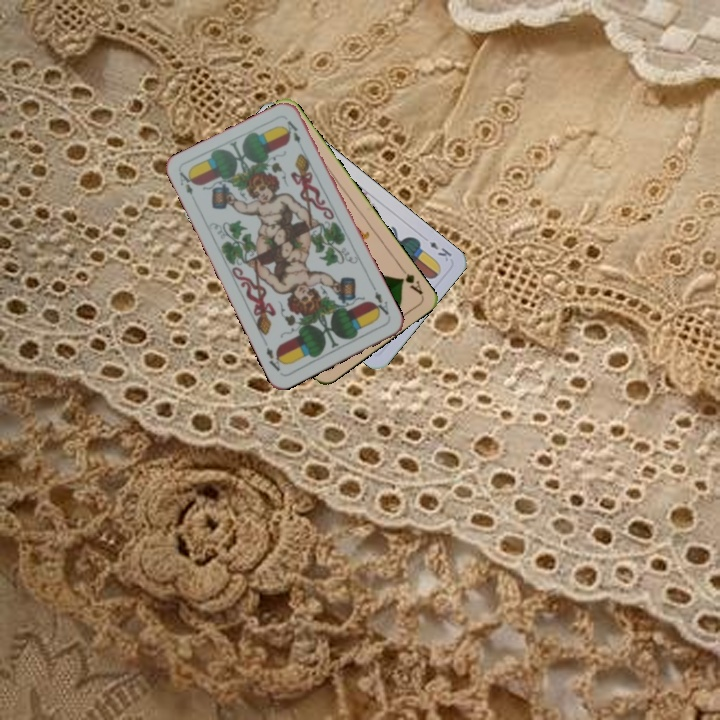EA: (369, 282, 392, 319), (175, 167, 197, 198)
EK: (425, 237, 454, 264)
GA: (395, 262, 426, 298)
